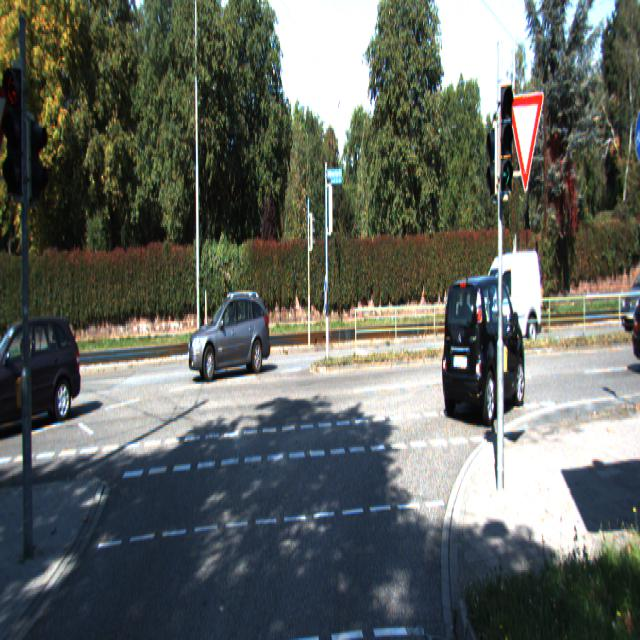Car: (441, 270, 528, 431), (0, 310, 83, 441), (188, 289, 272, 383), (468, 245, 543, 349), (621, 256, 639, 331), (632, 277, 640, 377)
